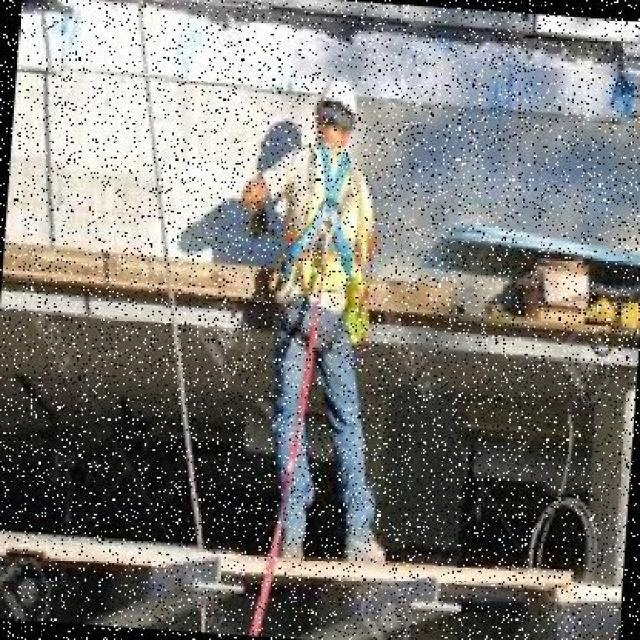Arnes_seguridad: (266, 133, 369, 378)
